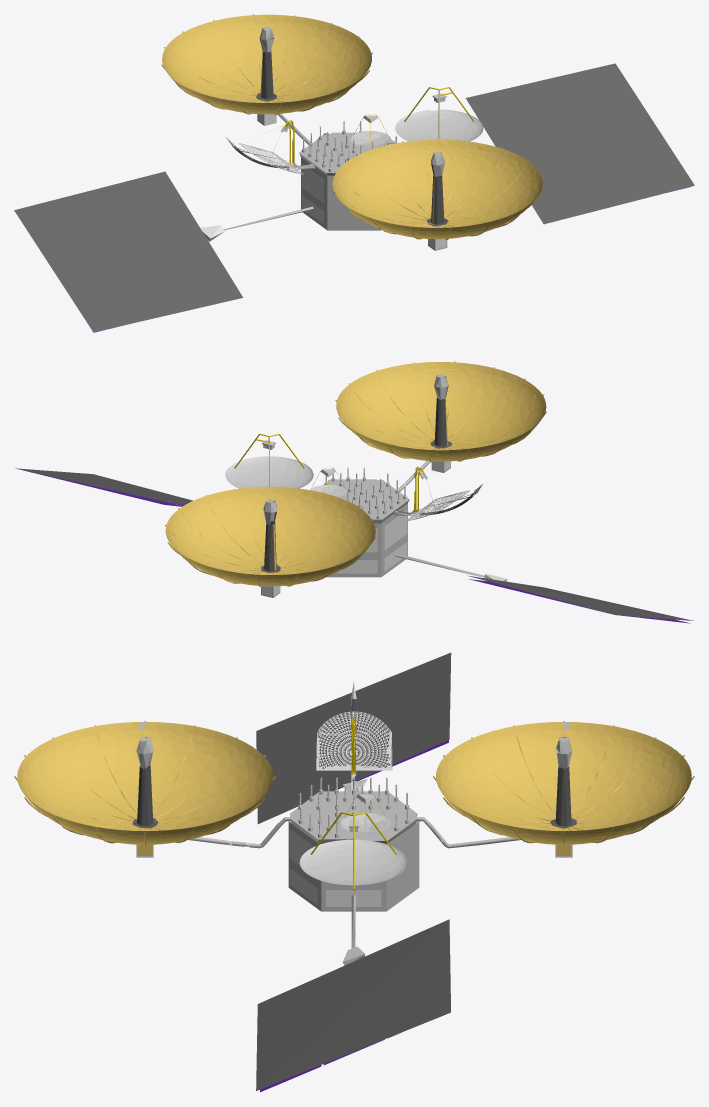
The model's file is tdrs-gen2.glb.
3 renders of one model, top to bottom at view 1: azimuth 30°, elevation 25°; view 2: azimuth 150°, elevation 25°; view 3: azimuth 270°, elevation 25°, orthographic. The views are drawn at different scales.
Parts seen in each view (by area): view 1: Fake; view 2: Fake; view 3: Fake.
Boxes of the visible parts, x1,y1,x2,y2 form: Fake: (14,14,694,332); Fake: (15,361,693,623); Fake: (14,652,694,1092).
Bounding box in the file's own units: 94.44 × 21.24 × 75.45.
